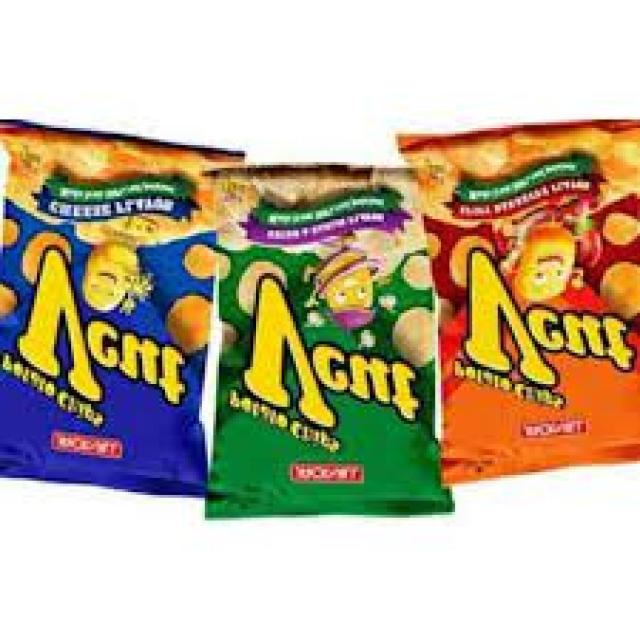junkfood wrapper: (0, 123, 242, 496), (400, 122, 640, 485), (209, 168, 454, 519)
